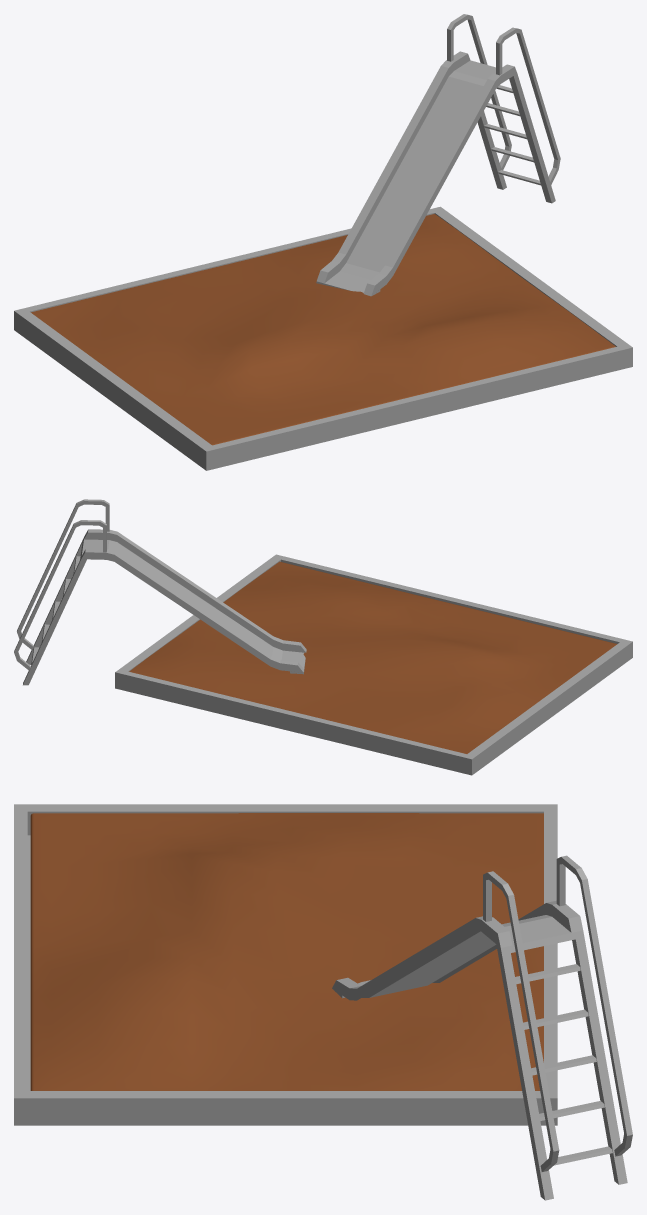
The model's file is Groundfloor_Swing3.fbx.
3 views of the same model, one above another, from view 1: azimuth 30°, elevation 25°; view 2: azimuth 150°, elevation 25°; view 3: azimuth 270°, elevation 25° (orthographic). The views are drawn at different scales.
Parts seen in each view (by area): view 1: Sand, Layer_02zc002, Edges; view 2: Sand, Edges, Layer_02zc002; view 3: Sand, Edges, Layer_02zc002.
Part boxes in pixels (<box>): Sand: <box>31,214,615,445</box>; Layer_02zc002: <box>316,14,560,296</box>; Edges: <box>14,206,632,470</box>; Sand: <box>129,561,617,753</box>; Edges: <box>115,554,632,775</box>; Layer_02zc002: <box>14,499,306,685</box>; Sand: <box>30,813,543,1090</box>; Edges: <box>14,804,557,1125</box>; Layer_02zc002: <box>332,855,632,1200</box>.
Size of the model in its own units: 677 by 235 by 472.
